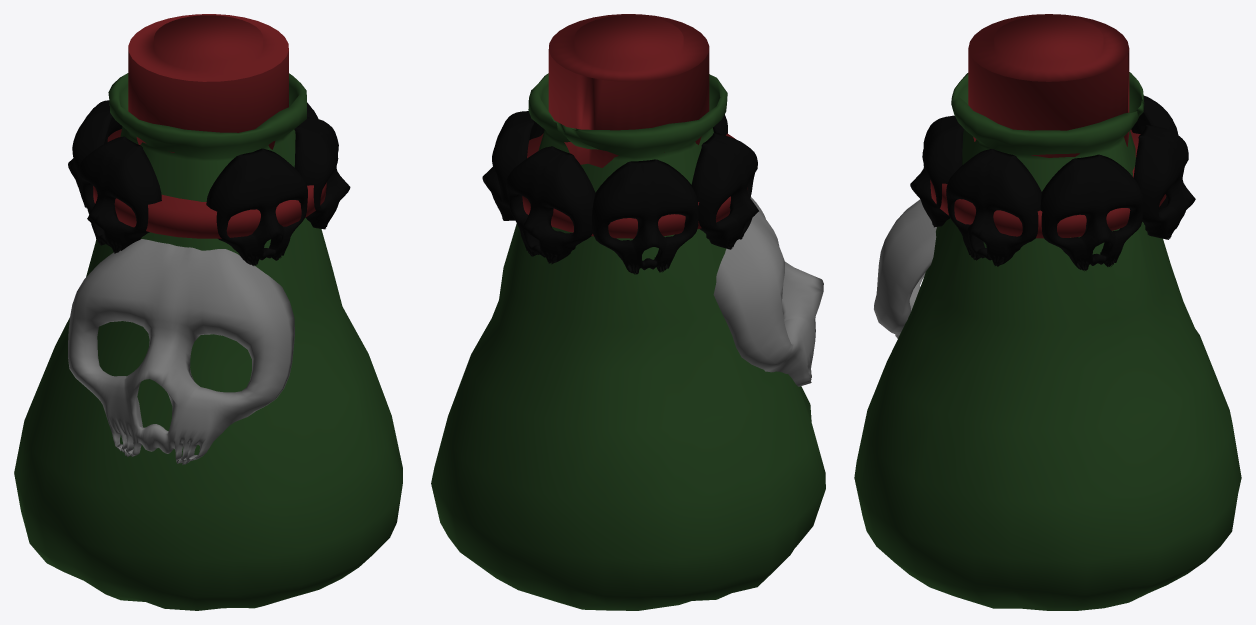
The model's file is pOiSoN.fbx.
3 views of the same model, side by side, from view 1: azimuth 30°, elevation 25°; view 2: azimuth 150°, elevation 25°; view 3: azimuth 270°, elevation 25° (orthographic).
Parts seen in each view (by area): view 1: Plane.001; view 2: Plane.001; view 3: Plane.001.
Boxes of the visible parts, box(x1,y1,x2,y2) form: Plane.001: box(14, 14, 402, 610); Plane.001: box(431, 14, 825, 610); Plane.001: box(854, 14, 1241, 610).
Size of the model in its own units: 68.51 by 104 by 67.74.
